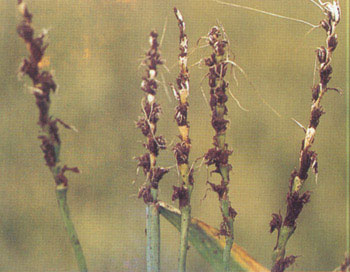Wheat Loose Smut: (118, 18, 254, 210)
